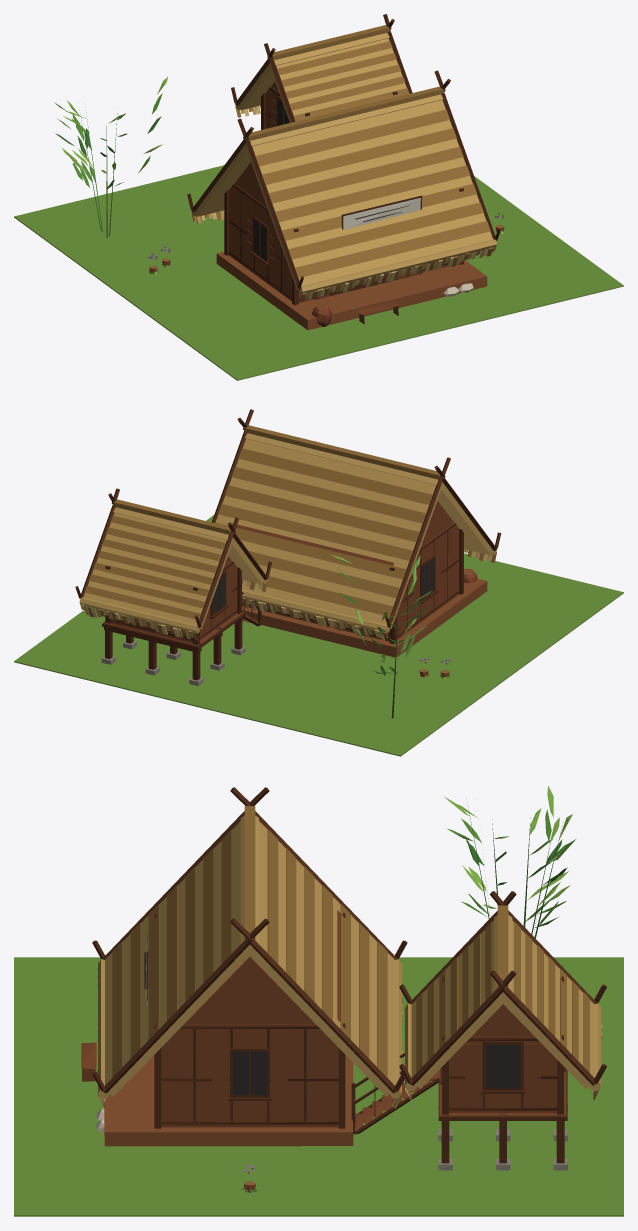
File: shop_2.glb
3 views of the same model, one above another, from view 1: azimuth 30°, elevation 25°; view 2: azimuth 150°, elevation 25°; view 3: azimuth 270°, elevation 25° (orthographic). The views are drawn at different scales.
Visible parts, largest first — view 1: body, windows; view 2: body, windows; view 3: body, windows.
Part boxes in pixels (<box>): body: <box>14,14,623,380</box>; windows: <box>253,99,289,259</box>; body: <box>14,409,623,756</box>; windows: <box>212,558,434,613</box>; body: <box>14,786,623,1216</box>; windows: <box>232,1044,520,1095</box>.
Size of the model in its own units: 15.9 by 6.97 by 15.9.
